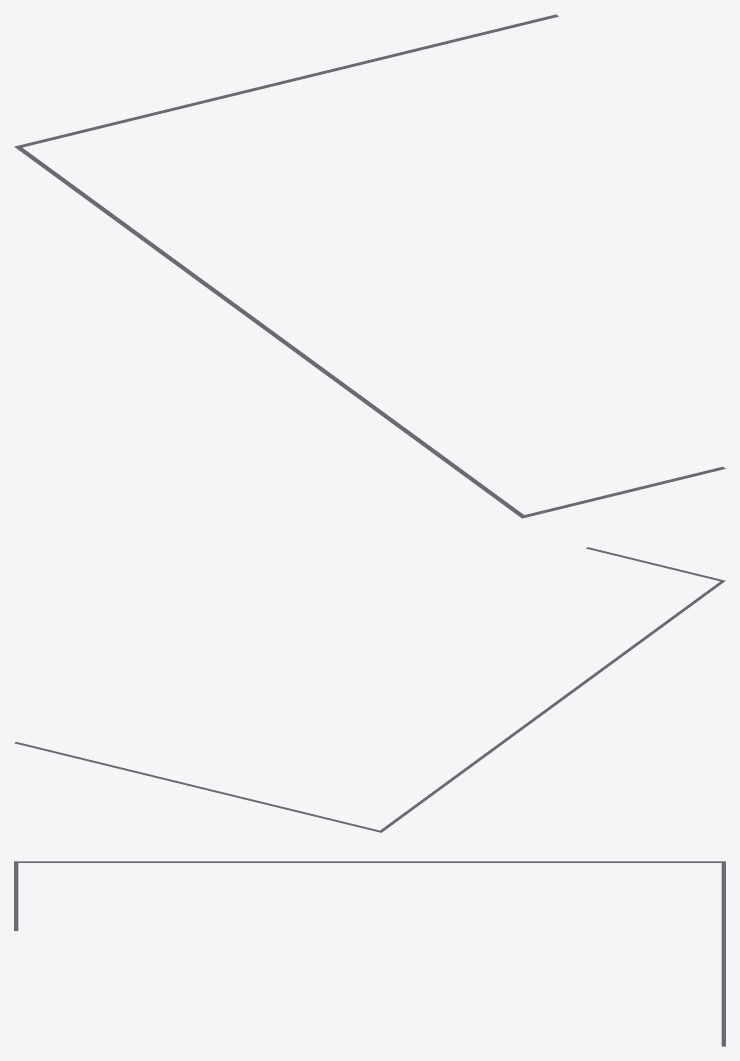
The model's file is kd_stage_135ded_4_96_exterior_piece_4.glb.
3 views of the same model, one above another, from view 1: azimuth 30°, elevation 25°; view 2: azimuth 150°, elevation 25°; view 3: azimuth 270°, elevation 25° (orthographic). The views are drawn at different scales.
Visible parts, largest first — view 1: kd_stage_135ded_4_96_exterior_piece_4; view 2: kd_stage_135ded_4_96_exterior_piece_4; view 3: kd_stage_135ded_4_96_exterior_piece_4.
Part boxes in pixels (x1,y1,x2,y2): kd_stage_135ded_4_96_exterior_piece_4: (14,14,725,518); kd_stage_135ded_4_96_exterior_piece_4: (14,547,725,832); kd_stage_135ded_4_96_exterior_piece_4: (14,861,725,1046).
Size of the model in its own units: 2.06 by 4.77e-07 by 3.34.
1 material, 1 textured.
